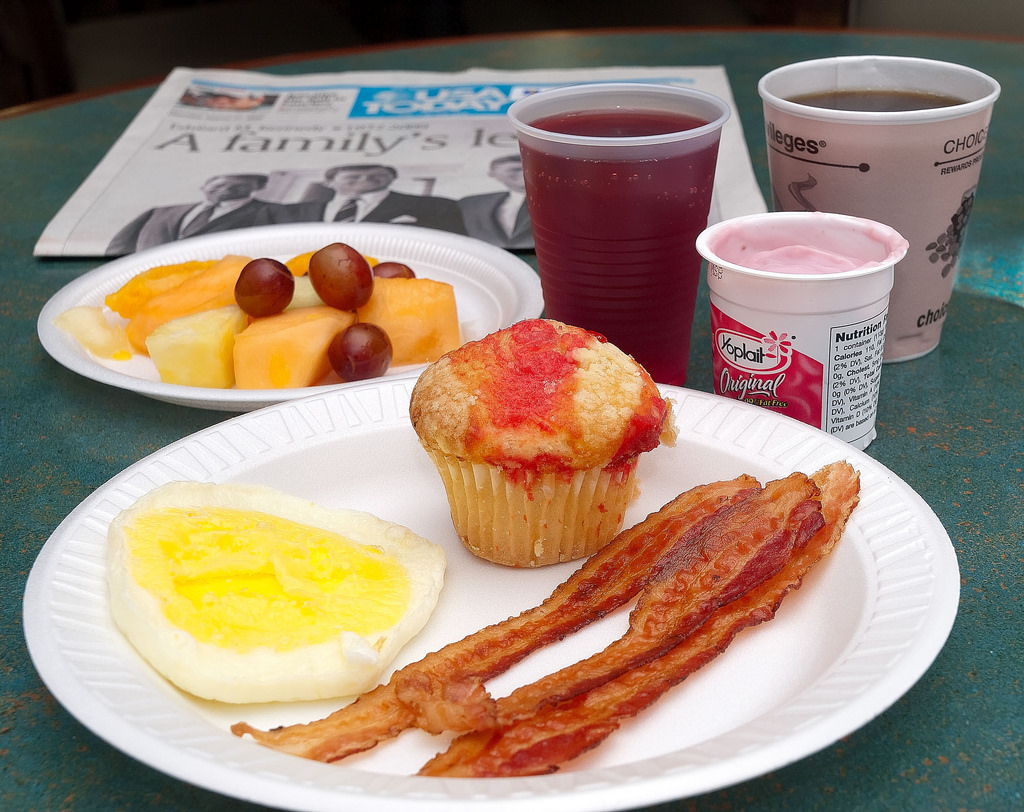fried egg: (140, 483, 414, 675)
